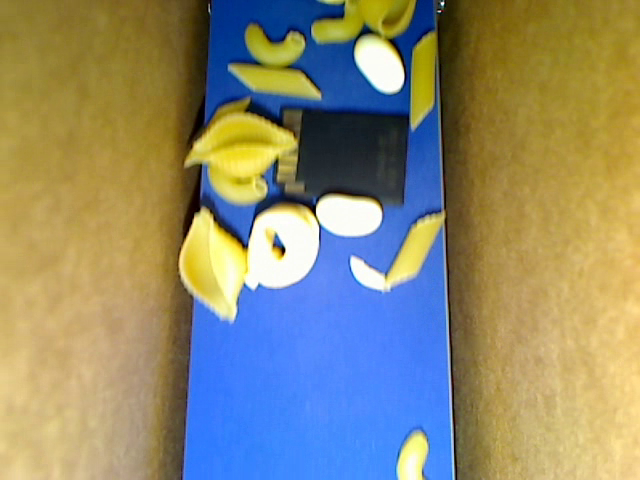elbow: (244, 22, 305, 67), (208, 165, 267, 206), (311, 1, 364, 45), (396, 426, 427, 479)
penne: (381, 210, 446, 290), (228, 64, 323, 99), (409, 29, 437, 131), (205, 96, 250, 133)
shell: (178, 205, 246, 321), (184, 112, 297, 178), (361, 1, 416, 40)
tortellini: (244, 204, 319, 292)
